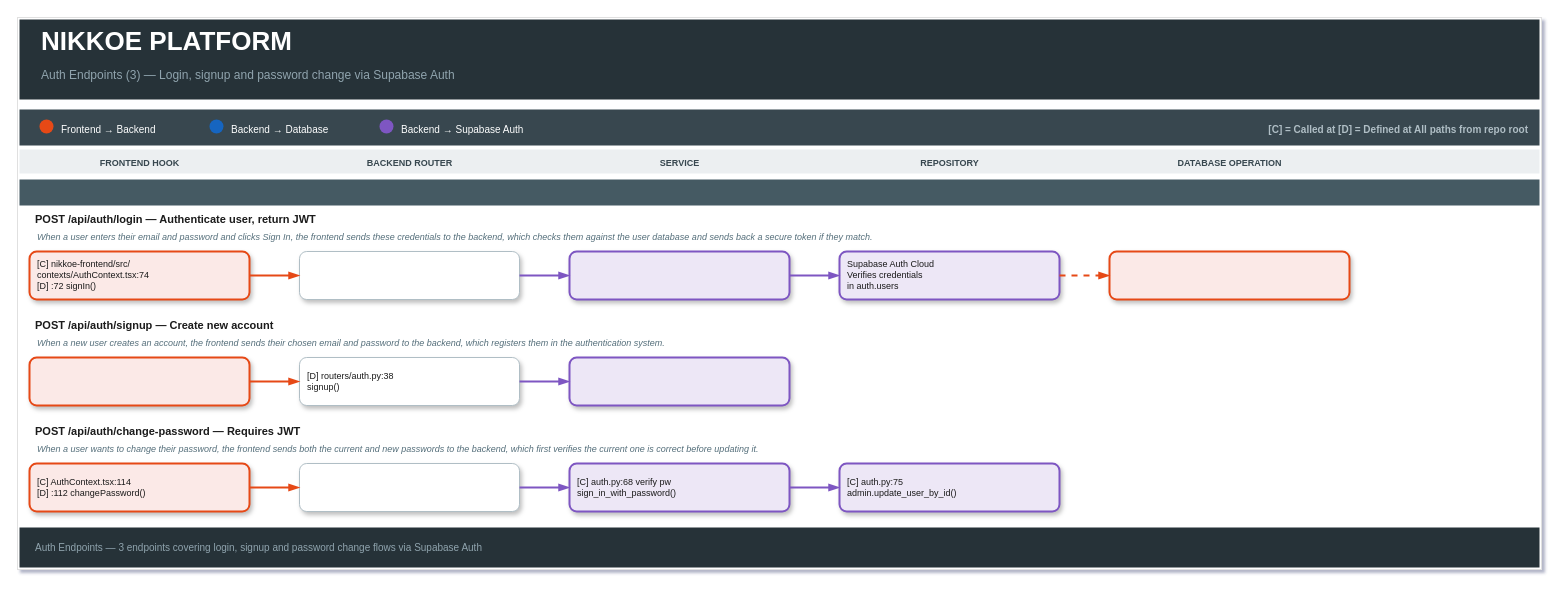
Image size: 1565x593. Some labels were removed from this diagram. The shapes that lost their labels are listed below. From the top down, each one's centre as x and y in pixels, then its label:
the point at 779,192: AUTH ENDPOINTS
the point at 410,276: [D] nikkoe-backend/app/ routers/auth.py:12 login()
the point at 680,276: [C] auth.py:14 calls supabase.auth .sign_in_with_password()
the point at 1230,276: Returns JWT session FE stores via setSession()
the point at 140,382: [C] AuthContext.tsx:91 [D] :89 signUp()
the point at 680,382: [C] auth.py:40 supabase.auth.sign_up() → creates auth.users row
the point at 410,488: [D] routers/auth.py:66 change_password()
